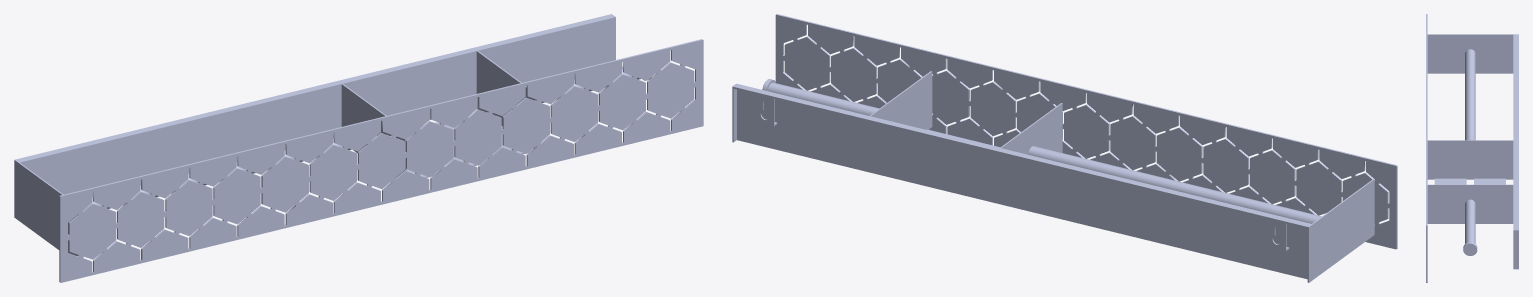
The model's file is bee-trio.35062390bd.glb.
3 renders of one model, left to right at view 1: azimuth 30°, elevation 25°; view 2: azimuth 150°, elevation 25°; view 3: azimuth 270°, elevation 25°, orthographic. The views are drawn at different scales.
Visible parts, largest first — view 1: NAUO1; view 2: NAUO1; view 3: NAUO1.
Boxes of the visible parts, x1,y1,x2,y2 form: NAUO1: [14, 14, 703, 282]; NAUO1: [732, 14, 1397, 282]; NAUO1: [1426, 14, 1518, 282].
Bounding box in the file's own units: 0.7 × 0.09 × 0.13.
